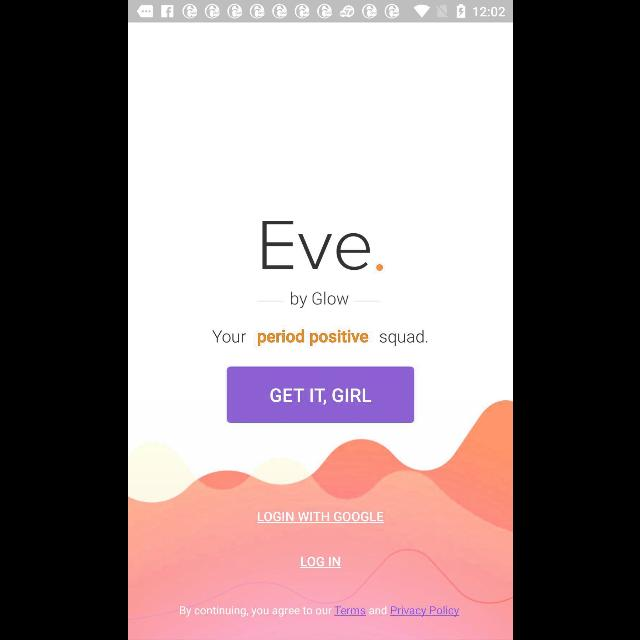text: (261, 220, 383, 272), (212, 329, 426, 346), (179, 606, 459, 616), (255, 511, 383, 523), (290, 292, 348, 308), (300, 556, 340, 568)
textbutton: (226, 367, 414, 423)
uppertaskbar: (128, 1, 512, 23)
